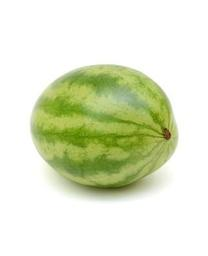watermelon: (33, 62, 177, 189)
